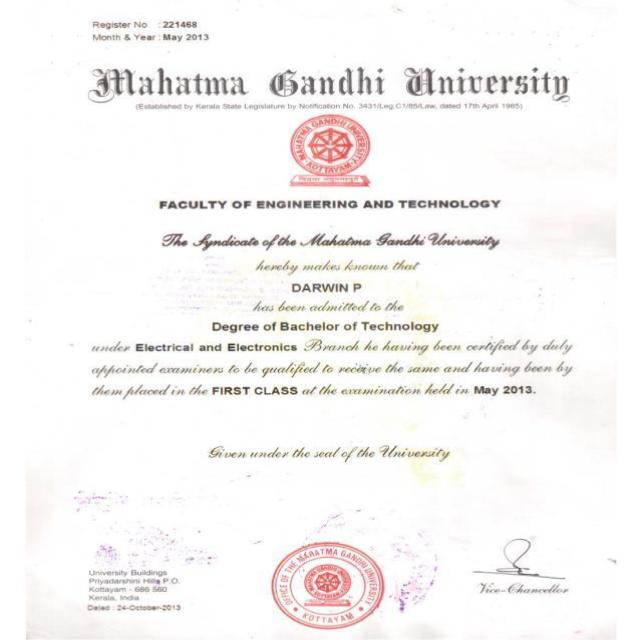signature: (466, 534, 570, 582)
